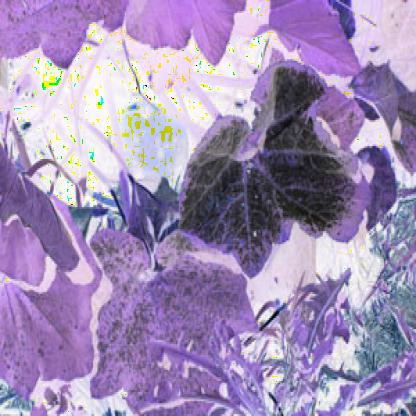squash powdery mildew leaf: (183, 59, 379, 266)
